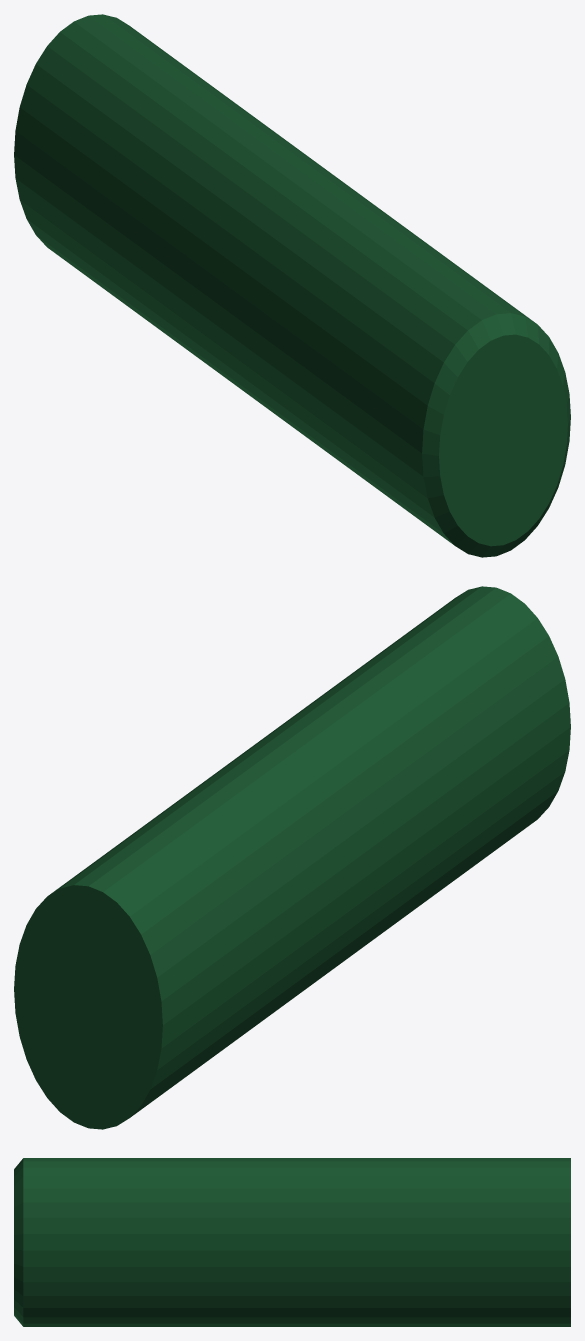
Rendered from Oval.fbx.
3 renders of one model, top to bottom at view 1: azimuth 30°, elevation 25°; view 2: azimuth 150°, elevation 25°; view 3: azimuth 270°, elevation 25°, orthographic. The views are drawn at different scales.
Visible parts, largest first — view 1: Oval; view 2: Oval; view 3: Oval.
Boxes of the visible parts, x1,y1,x2,y2 form: Oval: (14, 14, 570, 557); Oval: (14, 586, 570, 1129); Oval: (14, 1158, 570, 1326).
Bounding box in the file's own units: 62.15 × 96.55 × 300.
